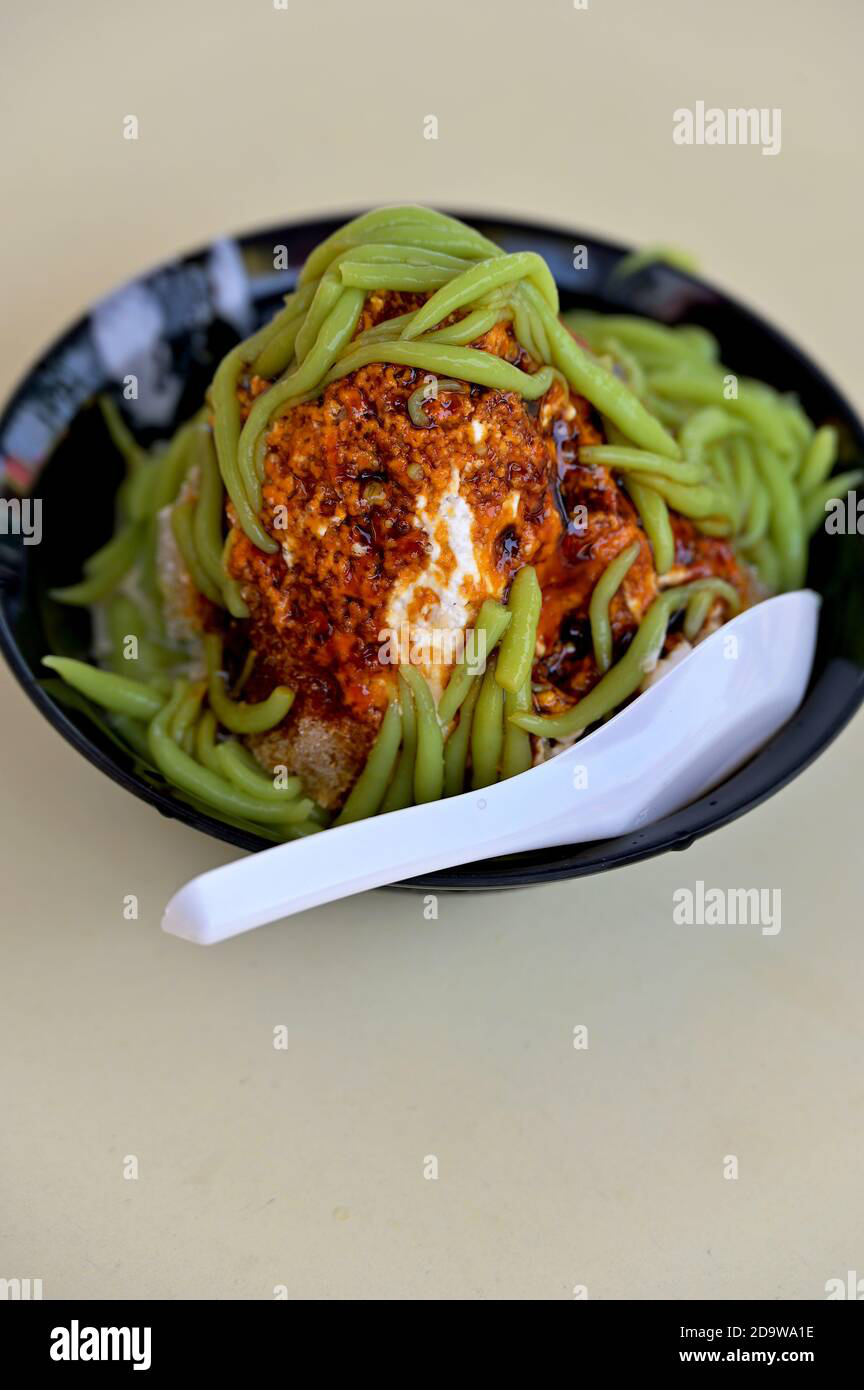Chendol: (121, 193, 843, 832)
